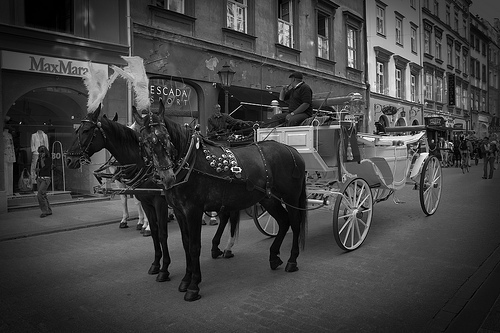horse: (128, 99, 310, 301), (64, 101, 177, 281)
